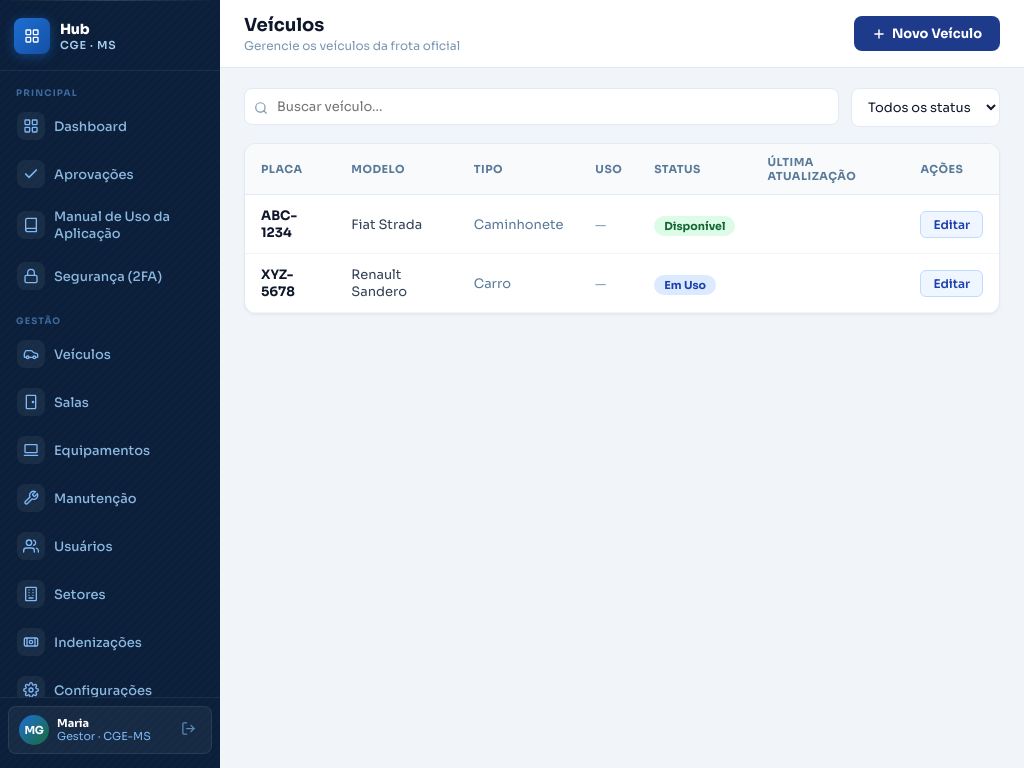
it: Veiculos — modal Novo Veículo › botão Cancelar fecha o modal
The width and height of the screenshot is (1024, 768).
Click the button "Novo Veículo": (927, 34) [854,16,1000,51]
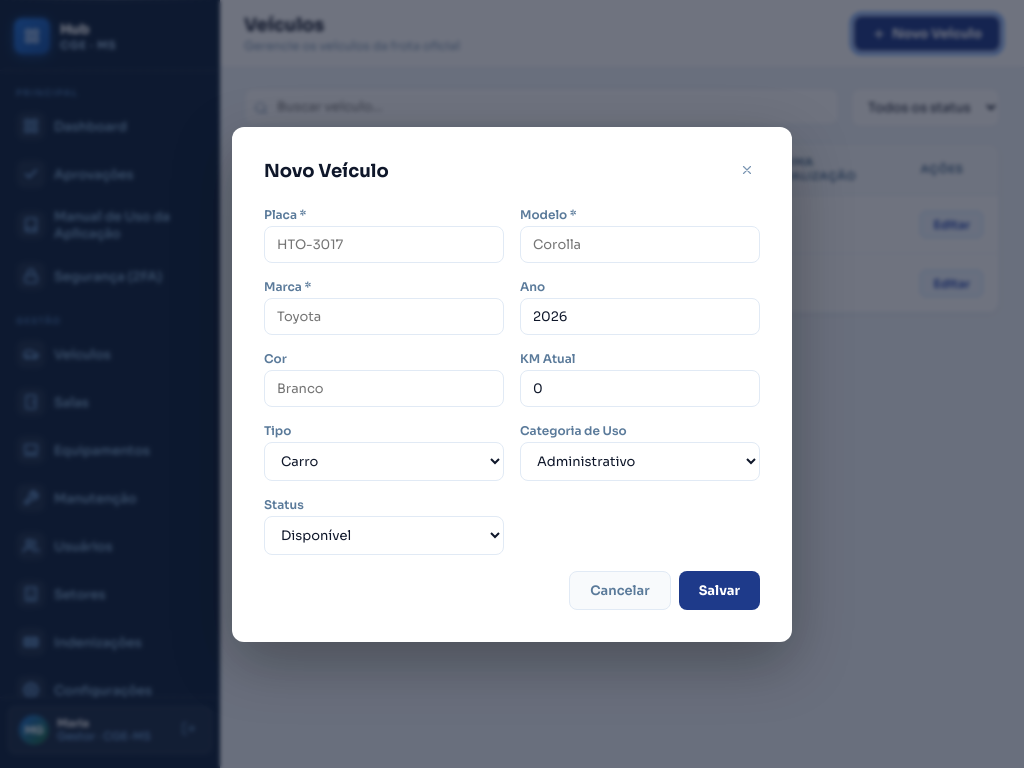
Click the button "Cancelar": (620, 590) [569,570,671,610]
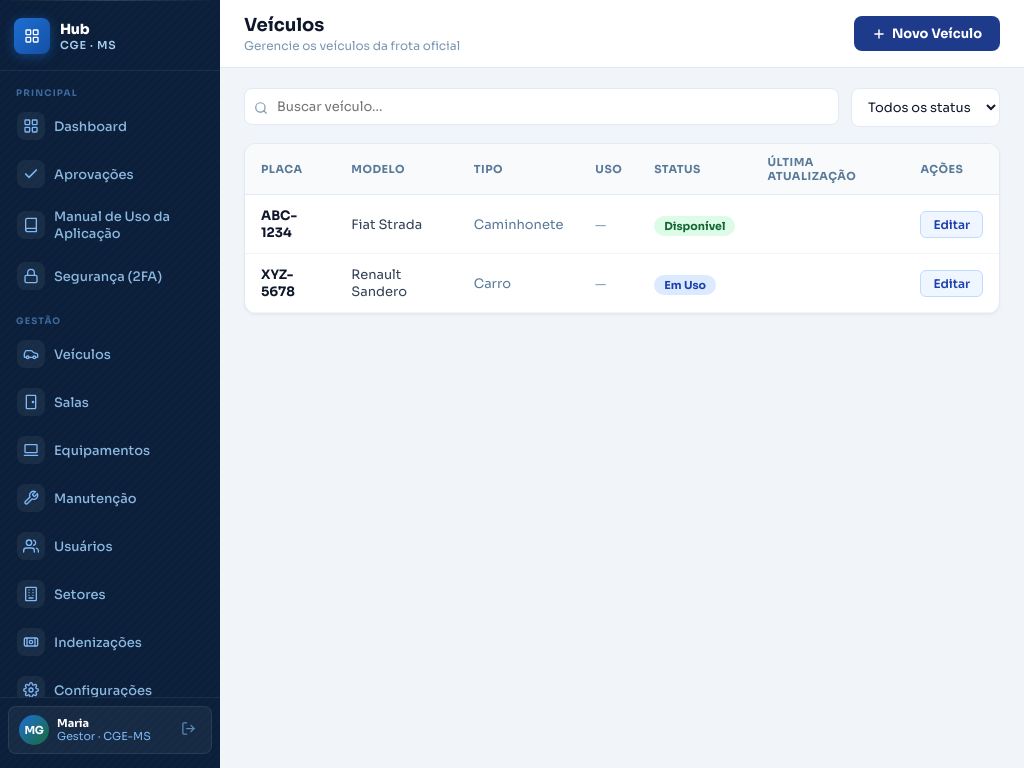
Expected: the field with placeholder "HTO-3017" is gone
